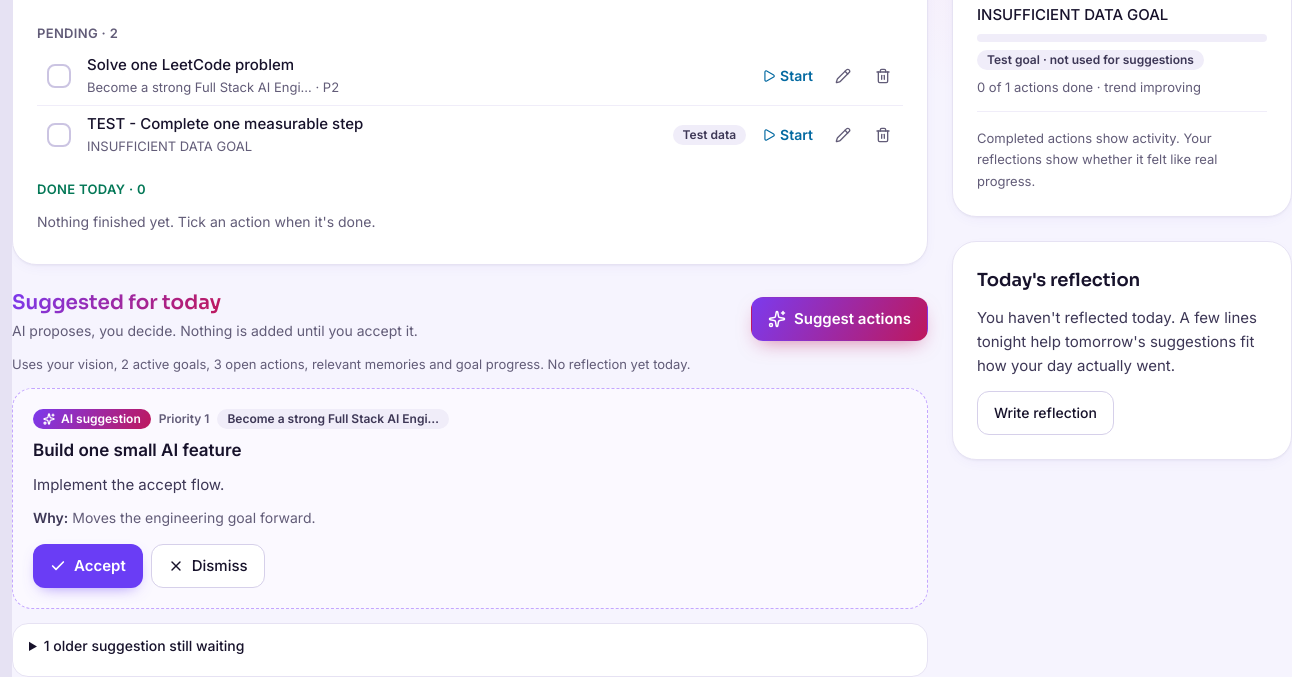
Test: Today › accepts a suggestion and reloads the day
(page scrolled)
Click the button with aria-label "Accept: Build one small AI feature" at (88,566), box [33,544,143,588]
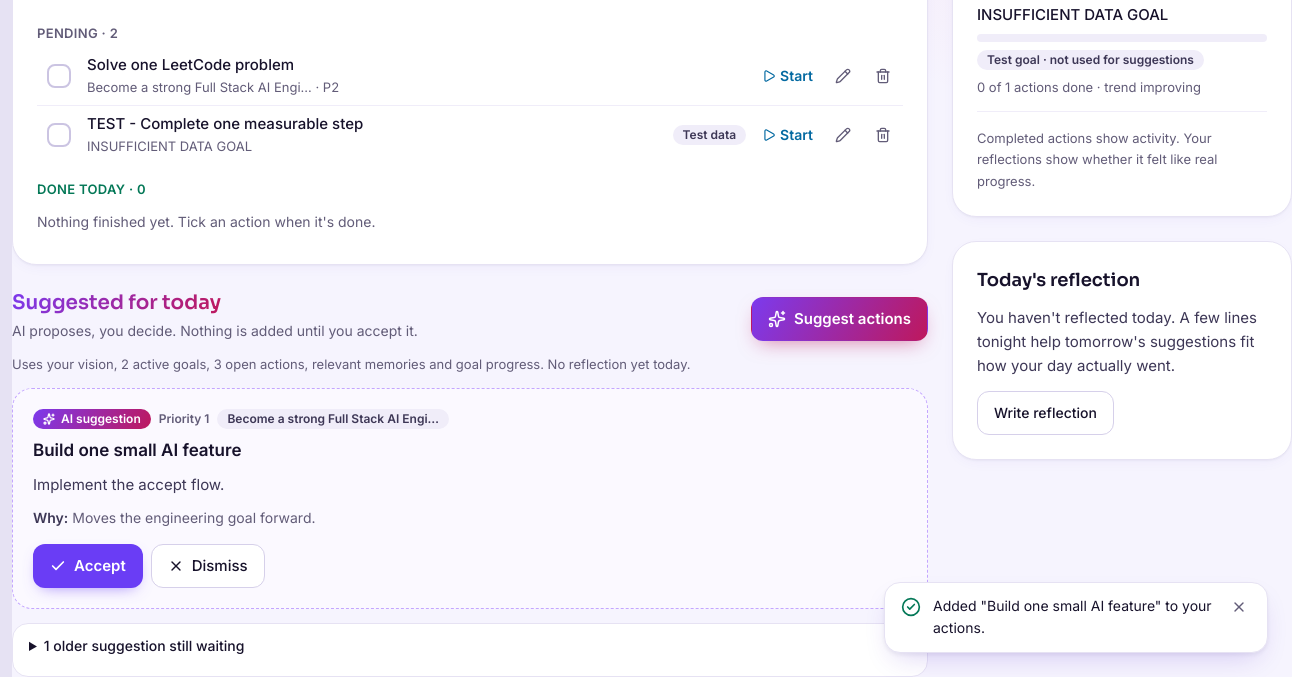
Check: the text "Added \"Build one small AI feature\" to your actions." is shown, box [933,594,1215,640]
